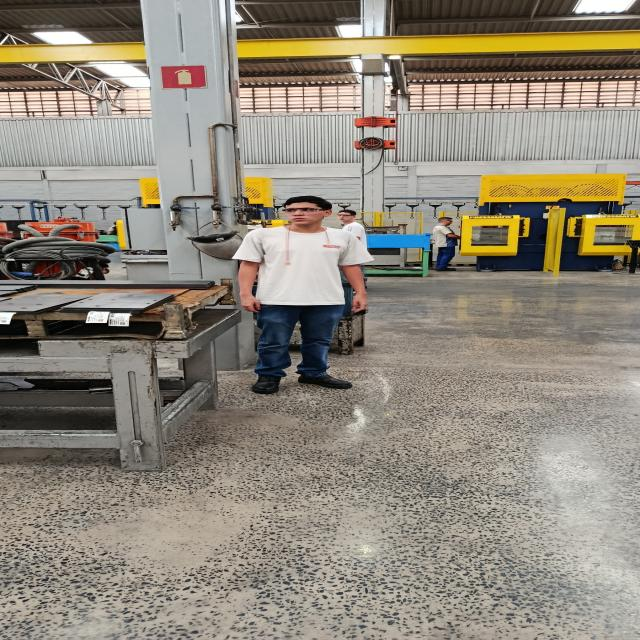oculos-epi: (282, 209, 327, 215), (337, 215, 350, 217), (447, 220, 454, 223)
